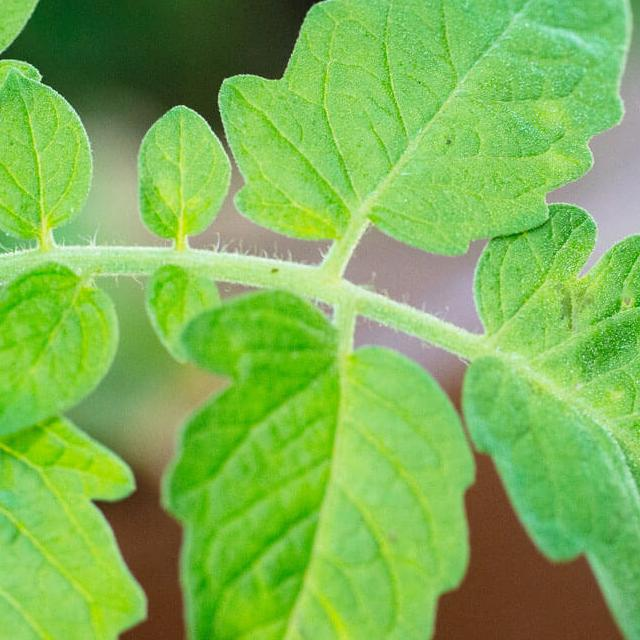Tomato leaf: (238, 0, 632, 277), (174, 282, 456, 640), (482, 208, 640, 640), (0, 314, 146, 640), (0, 255, 138, 437), (0, 80, 102, 260), (128, 91, 231, 260), (0, 0, 7, 221)
